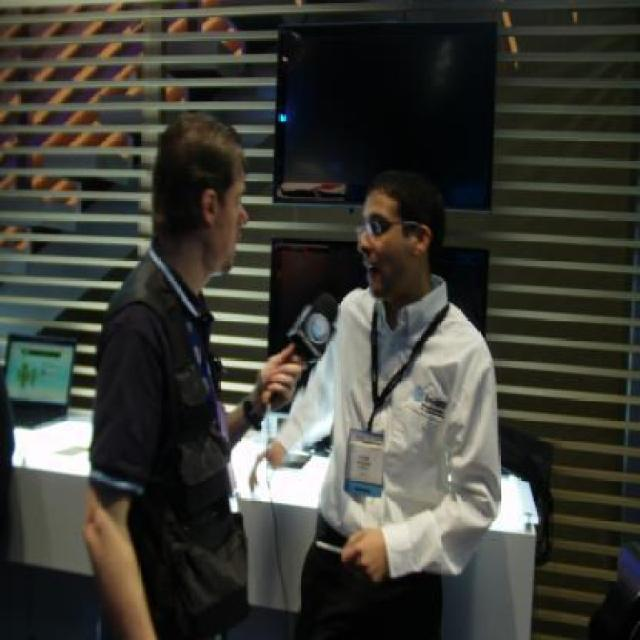Person: (250, 166, 498, 640), (87, 122, 255, 640)
